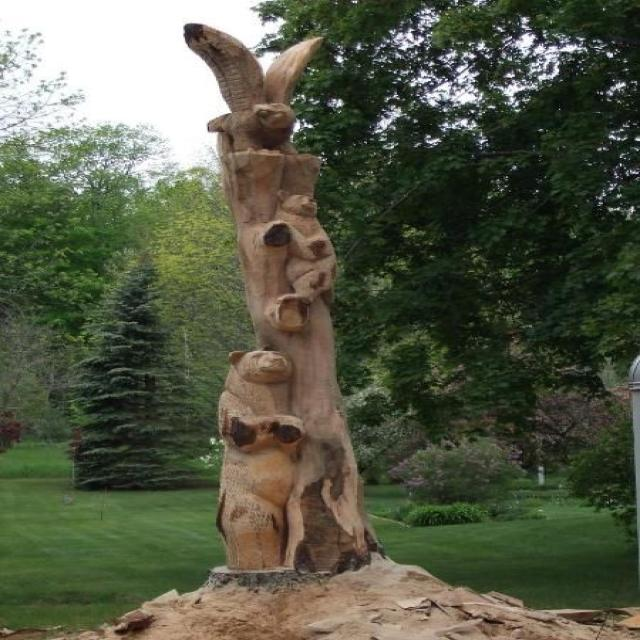Woods: (182, 22, 383, 576)
